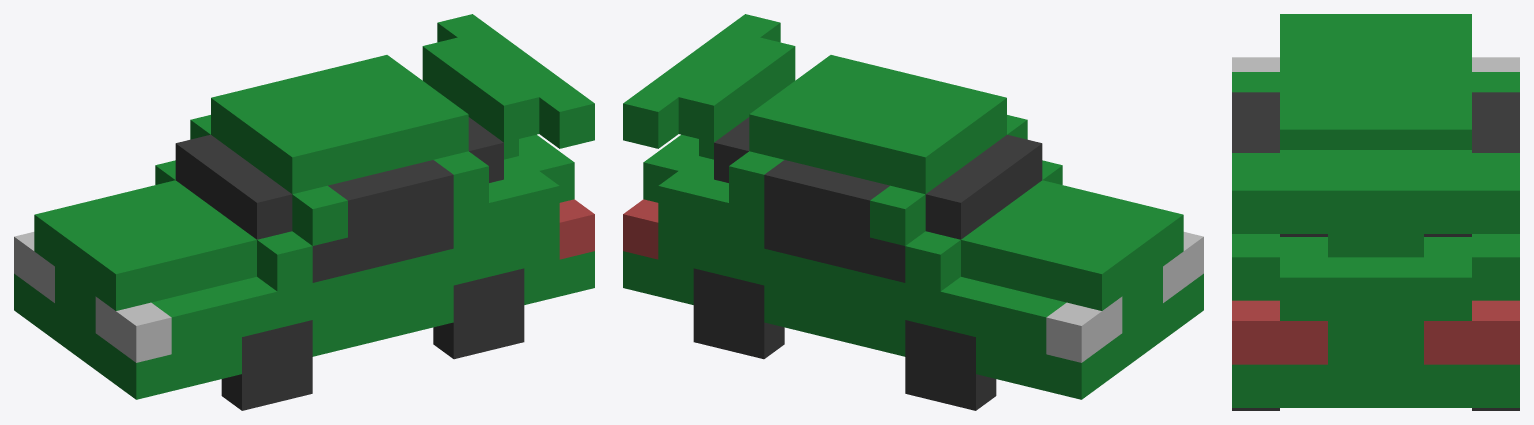
Rendered from racer-v2-green.gltf.
The picture shows the model from 3 angles, left to right: view 1: azimuth 30°, elevation 25°; view 2: azimuth 150°, elevation 25°; view 3: azimuth 270°, elevation 25°; orthographic projection. The views are drawn at different scales.
Parts seen in each view (by area): view 1: model, wheels; view 2: model, wheels; view 3: model, wheels.
Boxes of the visible parts, x1,y1,x2,y2 form: model: (14, 14, 594, 399); wheels: (221, 268, 524, 410); model: (623, 14, 1203, 399); wheels: (693, 268, 996, 410); model: (1232, 14, 1519, 407); wheels: (1232, 408, 1519, 410).
Size of the model in its own units: 1.3 by 0.6 by 0.6.
2 materials, 2 textured.
